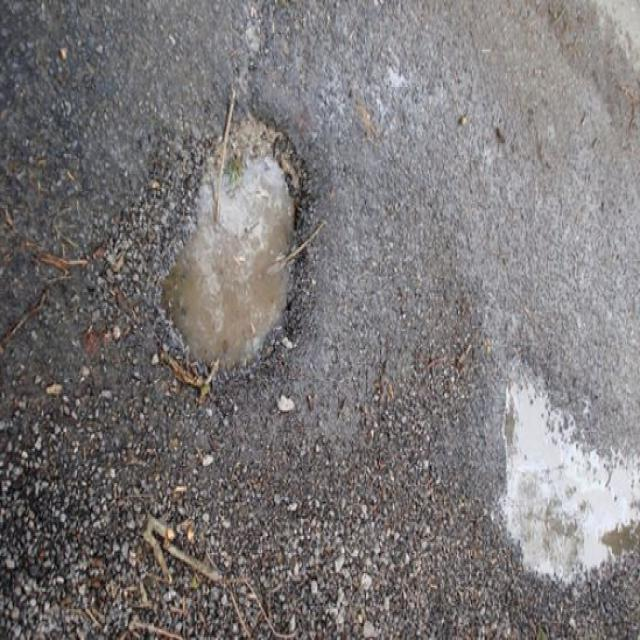Pothole: (150, 101, 315, 386)
